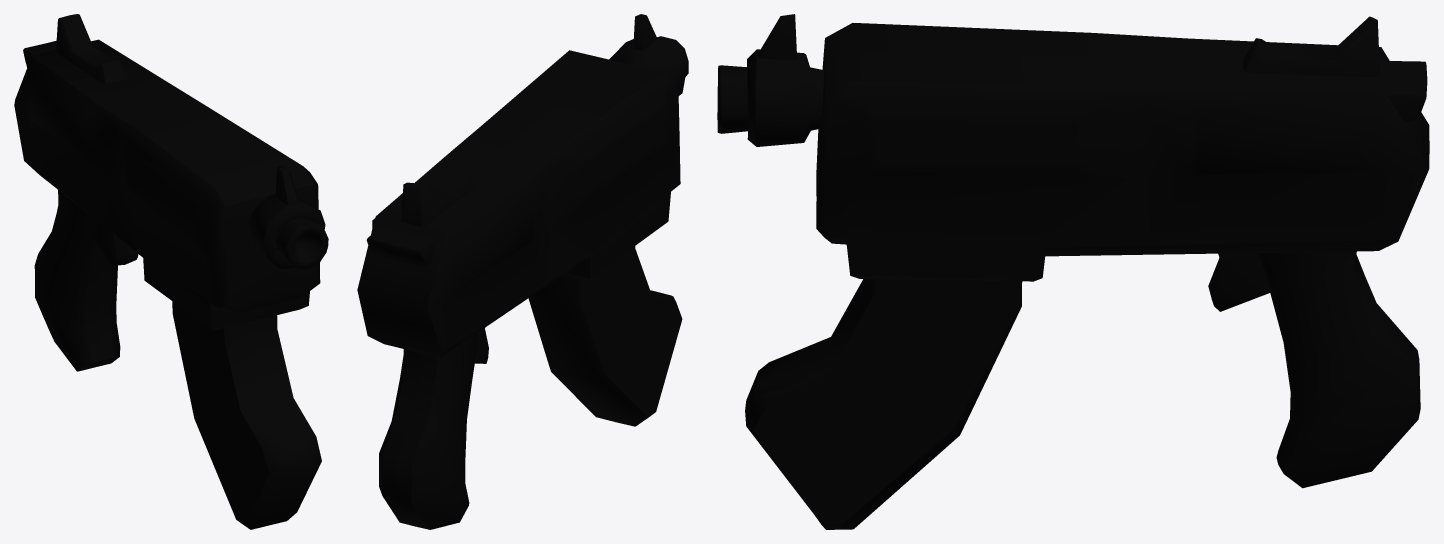
Rendered from smg3.glb.
The picture shows the model from 3 angles, left to right: view 1: azimuth 30°, elevation 25°; view 2: azimuth 150°, elevation 25°; view 3: azimuth 270°, elevation 25°; orthographic projection. The views are drawn at different scales.
Visible parts, largest first — view 1: node_id11; view 2: node_id11; view 3: node_id11.
Part boxes in pixels (x1=…): node_id11: x1=14, y1=14, x2=328, y2=529; node_id11: x1=357, y1=14, x2=688, y2=529; node_id11: x1=717, y1=14, x2=1429, y2=529.
Bounding box in the file's own units: 0.00199 × 0.00624 × 0.00803.
1 material, 1 textured.
